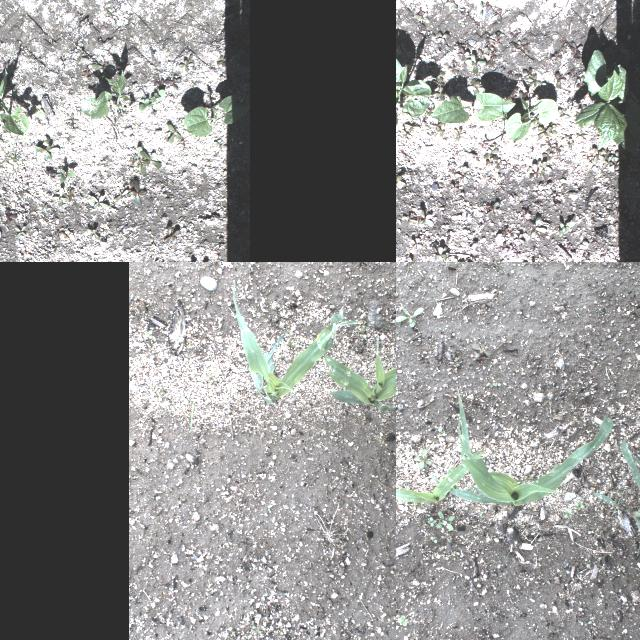crop: (448, 390, 616, 504), (232, 282, 358, 402), (323, 278, 396, 412), (592, 393, 640, 563), (574, 50, 628, 150), (396, 461, 472, 503), (396, 49, 431, 128), (432, 93, 514, 123), (81, 71, 129, 119), (182, 94, 232, 138), (506, 96, 556, 140), (0, 72, 30, 134)
weed: (0, 136, 30, 175), (396, 304, 428, 326), (412, 445, 433, 473), (34, 136, 58, 160), (129, 178, 147, 206), (140, 150, 162, 170), (436, 509, 456, 531), (470, 340, 490, 362), (466, 54, 486, 74), (351, 321, 369, 341), (531, 215, 547, 237), (396, 605, 410, 630), (51, 188, 69, 206), (454, 165, 472, 183), (467, 78, 485, 94), (418, 208, 434, 226), (247, 618, 263, 636), (425, 425, 449, 437), (168, 124, 182, 144), (134, 146, 144, 174), (439, 534, 459, 548), (448, 346, 462, 366), (188, 398, 196, 432), (163, 226, 179, 242), (485, 32, 501, 48), (432, 245, 447, 262), (180, 52, 194, 70), (558, 222, 576, 236), (88, 196, 108, 208), (59, 168, 76, 182), (150, 88, 166, 102), (536, 126, 552, 140), (592, 146, 604, 164), (138, 97, 152, 111), (428, 118, 442, 132), (433, 86, 447, 100), (90, 62, 114, 70), (165, 76, 181, 88), (554, 72, 566, 88), (538, 161, 550, 177), (526, 74, 542, 86), (152, 382, 164, 398), (572, 499, 584, 515), (432, 76, 443, 92), (86, 228, 100, 240), (487, 201, 499, 215), (570, 42, 582, 56), (412, 12, 428, 22), (528, 163, 538, 179), (482, 148, 498, 158), (217, 55, 230, 67), (105, 10, 116, 24), (458, 47, 469, 61), (410, 237, 422, 249), (541, 148, 553, 160), (558, 108, 570, 120), (477, 47, 489, 59), (424, 510, 432, 528), (31, 104, 44, 115), (113, 190, 127, 200), (550, 143, 564, 153), (575, 74, 585, 88), (434, 32, 448, 42), (396, 174, 405, 189), (14, 226, 26, 237), (400, 215, 416, 223), (444, 0, 458, 9), (602, 155, 612, 167), (454, 128, 464, 140), (522, 66, 532, 78), (514, 73, 524, 85), (75, 51, 88, 60), (564, 506, 572, 520), (408, 0, 419, 10), (215, 140, 228, 148), (200, 376, 217, 382), (516, 39, 526, 49), (448, 64, 458, 74), (491, 11, 501, 21), (460, 38, 470, 48), (20, 185, 28, 197), (489, 142, 501, 150), (403, 124, 419, 130), (287, 333, 293, 347), (601, 148, 609, 158), (401, 129, 411, 137), (441, 251, 448, 262), (494, 158, 501, 168), (457, 636, 474, 640), (426, 104, 432, 115), (479, 2, 483, 18), (485, 158, 493, 166), (144, 330, 152, 338), (449, 257, 461, 262), (550, 124, 556, 134), (568, 138, 572, 148), (434, 70, 444, 74), (460, 20, 466, 26), (266, 508, 272, 514), (324, 487, 328, 495)
